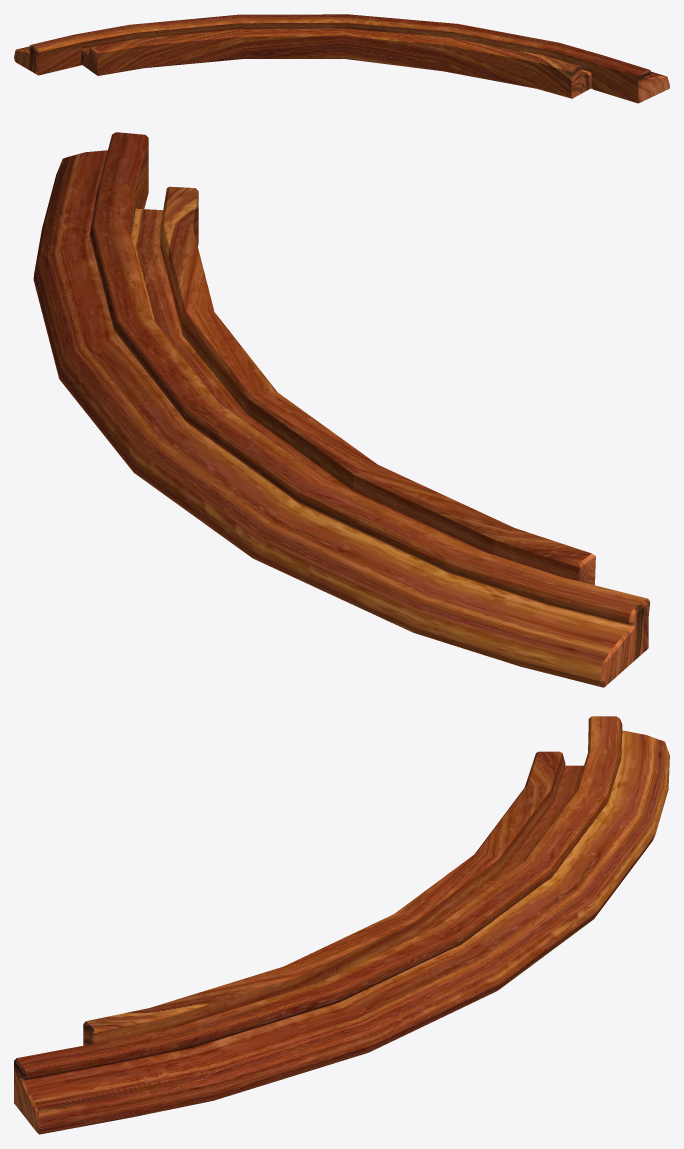
Rendered from yuandeng_J_D_yaxian_3.FBX.
3 renders of one model, top to bottom at view 1: azimuth 30°, elevation 25°; view 2: azimuth 150°, elevation 25°; view 3: azimuth 270°, elevation 25°, orthographic. The views are drawn at different scales.
Parts seen in each view (by area): view 1: yuandeng_J_D_yaxian_3; view 2: yuandeng_J_D_yaxian_3; view 3: yuandeng_J_D_yaxian_3.
Boxes of the visible parts, <box> form: yuandeng_J_D_yaxian_3: <box>14,14,669,103</box>; yuandeng_J_D_yaxian_3: <box>33,132,650,687</box>; yuandeng_J_D_yaxian_3: <box>14,716,669,1134</box>.
Bounding box in the file's own units: 20.41 × 1.2 × 15.16.
Materials: 2 (2 with a texture image).
